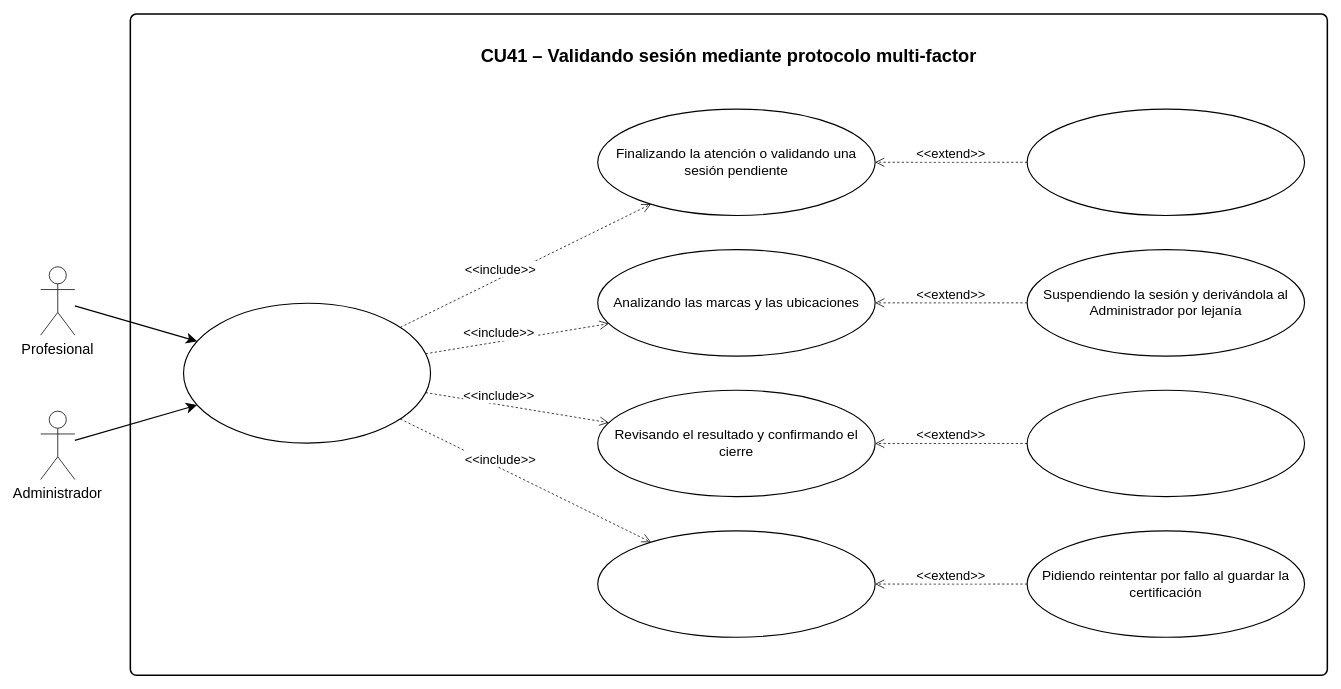
Some shapes in this 1341 by 689 pixel diagram are drawn without their labels. Here are the shapes that lost their labels. From the top down, the centre of each, then its label:
(x=1165, y=162): Deteniendo la certificación automática por falta de una ubicación
(x=307, y=372): Validando sesión mediante protocolo multi-factor
(x=1165, y=443): No certificando la sesión por resumen rechazado o pérdida de conexión
(x=736, y=583): Certificando la sesión y registrando el detalle en la bitácora
